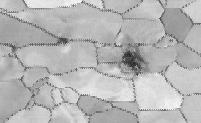good_void: (121, 43, 145, 77), (54, 37, 70, 49), (169, 38, 174, 43)
